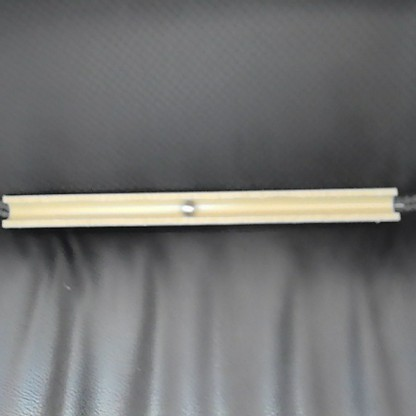ironball: (178, 197, 197, 217)
